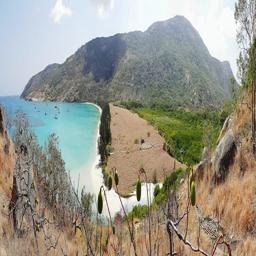Sparrow: (194, 203, 221, 241)
